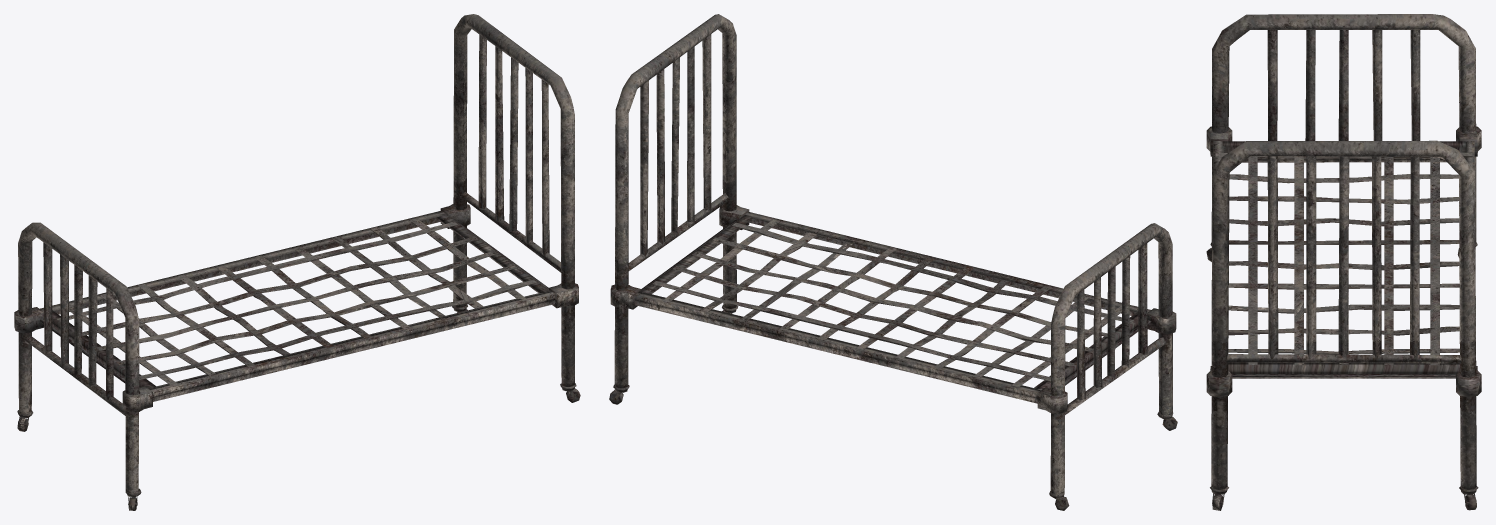
Rendered from Bed.fbx.
3 views of the same model, side by side, from view 1: azimuth 30°, elevation 25°; view 2: azimuth 150°, elevation 25°; view 3: azimuth 270°, elevation 25° (orthographic). The views are drawn at different scales.
Visible parts, largest first — view 1: Bed; view 2: Bed; view 3: Bed.
Boxes of the visible parts, bbox=[...] form: Bed: bbox=[14, 14, 580, 510]; Bed: bbox=[609, 14, 1177, 510]; Bed: bbox=[1206, 14, 1481, 510].
Bounding box in the file's own units: 463 × 310 × 211.
1 material, 1 textured.
